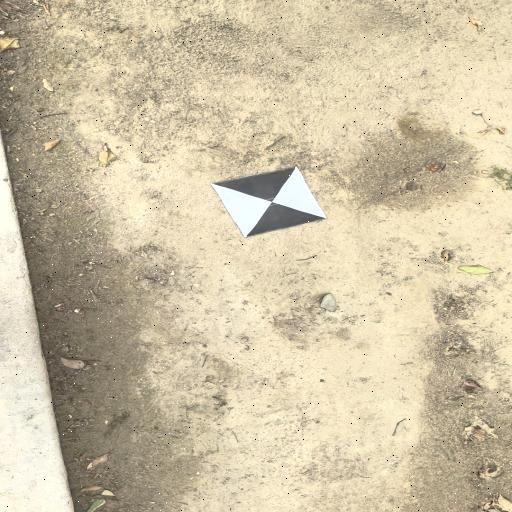target: (215, 169, 326, 236)
